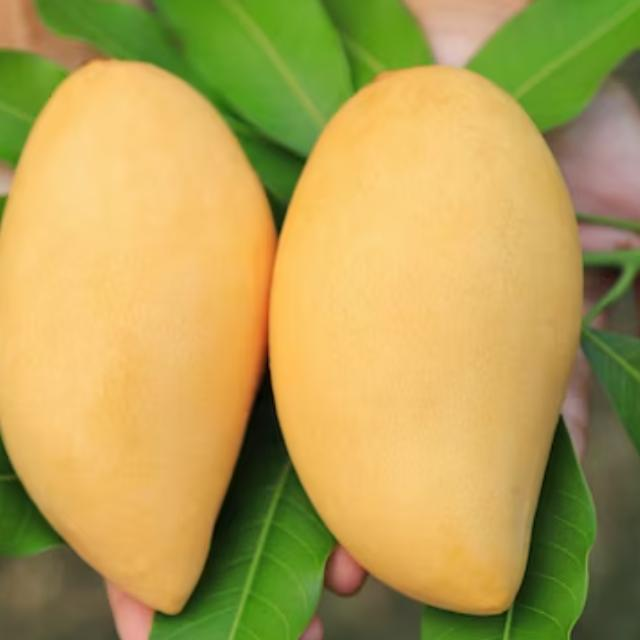mango: (259, 65, 588, 614), (0, 55, 274, 618)
